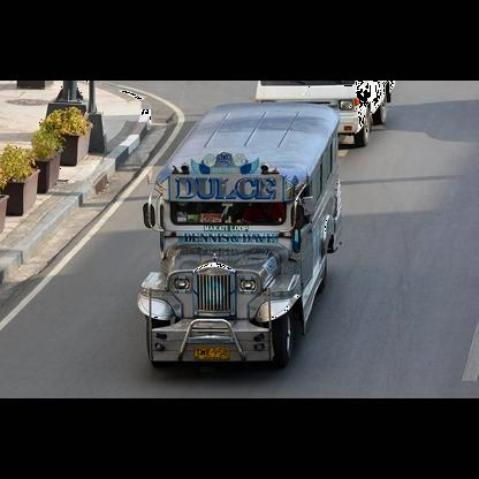jeepney: (128, 91, 346, 400)
